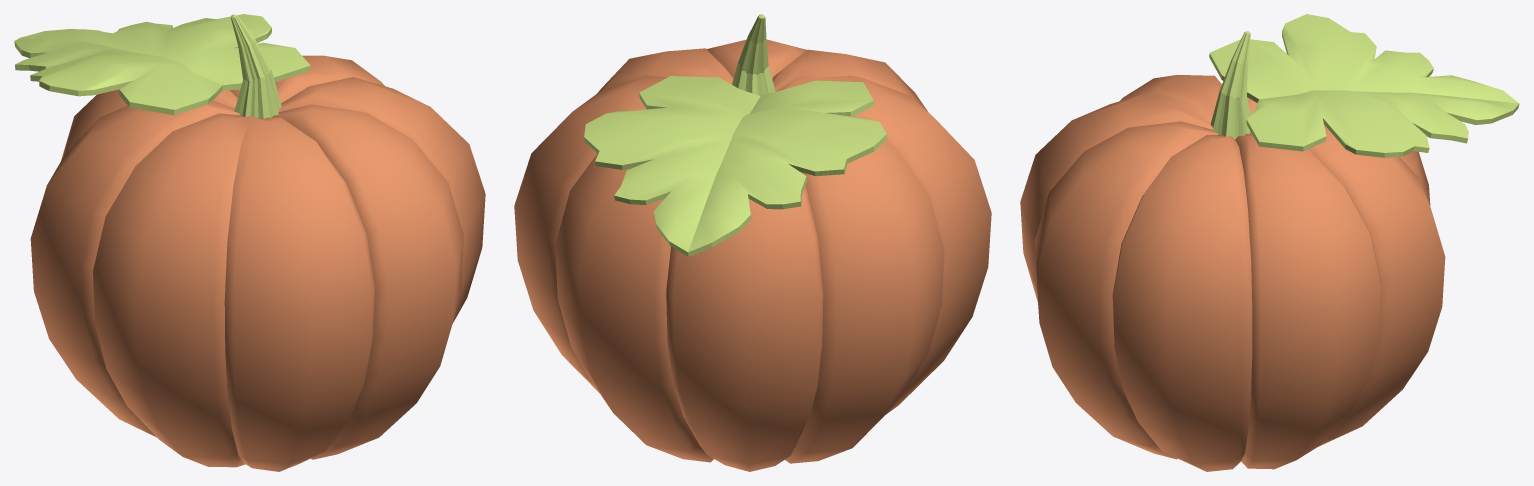
File: pumkin.fbx
3 views of the same model, side by side, from view 1: azimuth 30°, elevation 25°; view 2: azimuth 150°, elevation 25°; view 3: azimuth 270°, elevation 25° (orthographic). The views are drawn at different scales.
Parts seen in each view (by area): view 1: pasted__pSphere1, polySurface3; view 2: pasted__pSphere1, polySurface3; view 3: pasted__pSphere1, polySurface3.
Part boxes in pixels (left/top/right/bottom): pasted__pSphere1: left=30, top=14, right=485, bottom=471; polySurface3: left=14, top=14, right=310, bottom=115; pasted__pSphere1: left=514, top=14, right=991, bottom=471; polySurface3: left=584, top=76, right=887, bottom=256; pasted__pSphere1: left=1020, top=31, right=1445, bottom=471; polySurface3: left=1209, top=14, right=1519, bottom=157.
Bounding box in the file's own units: 4.31 × 4.44 × 5.07.
